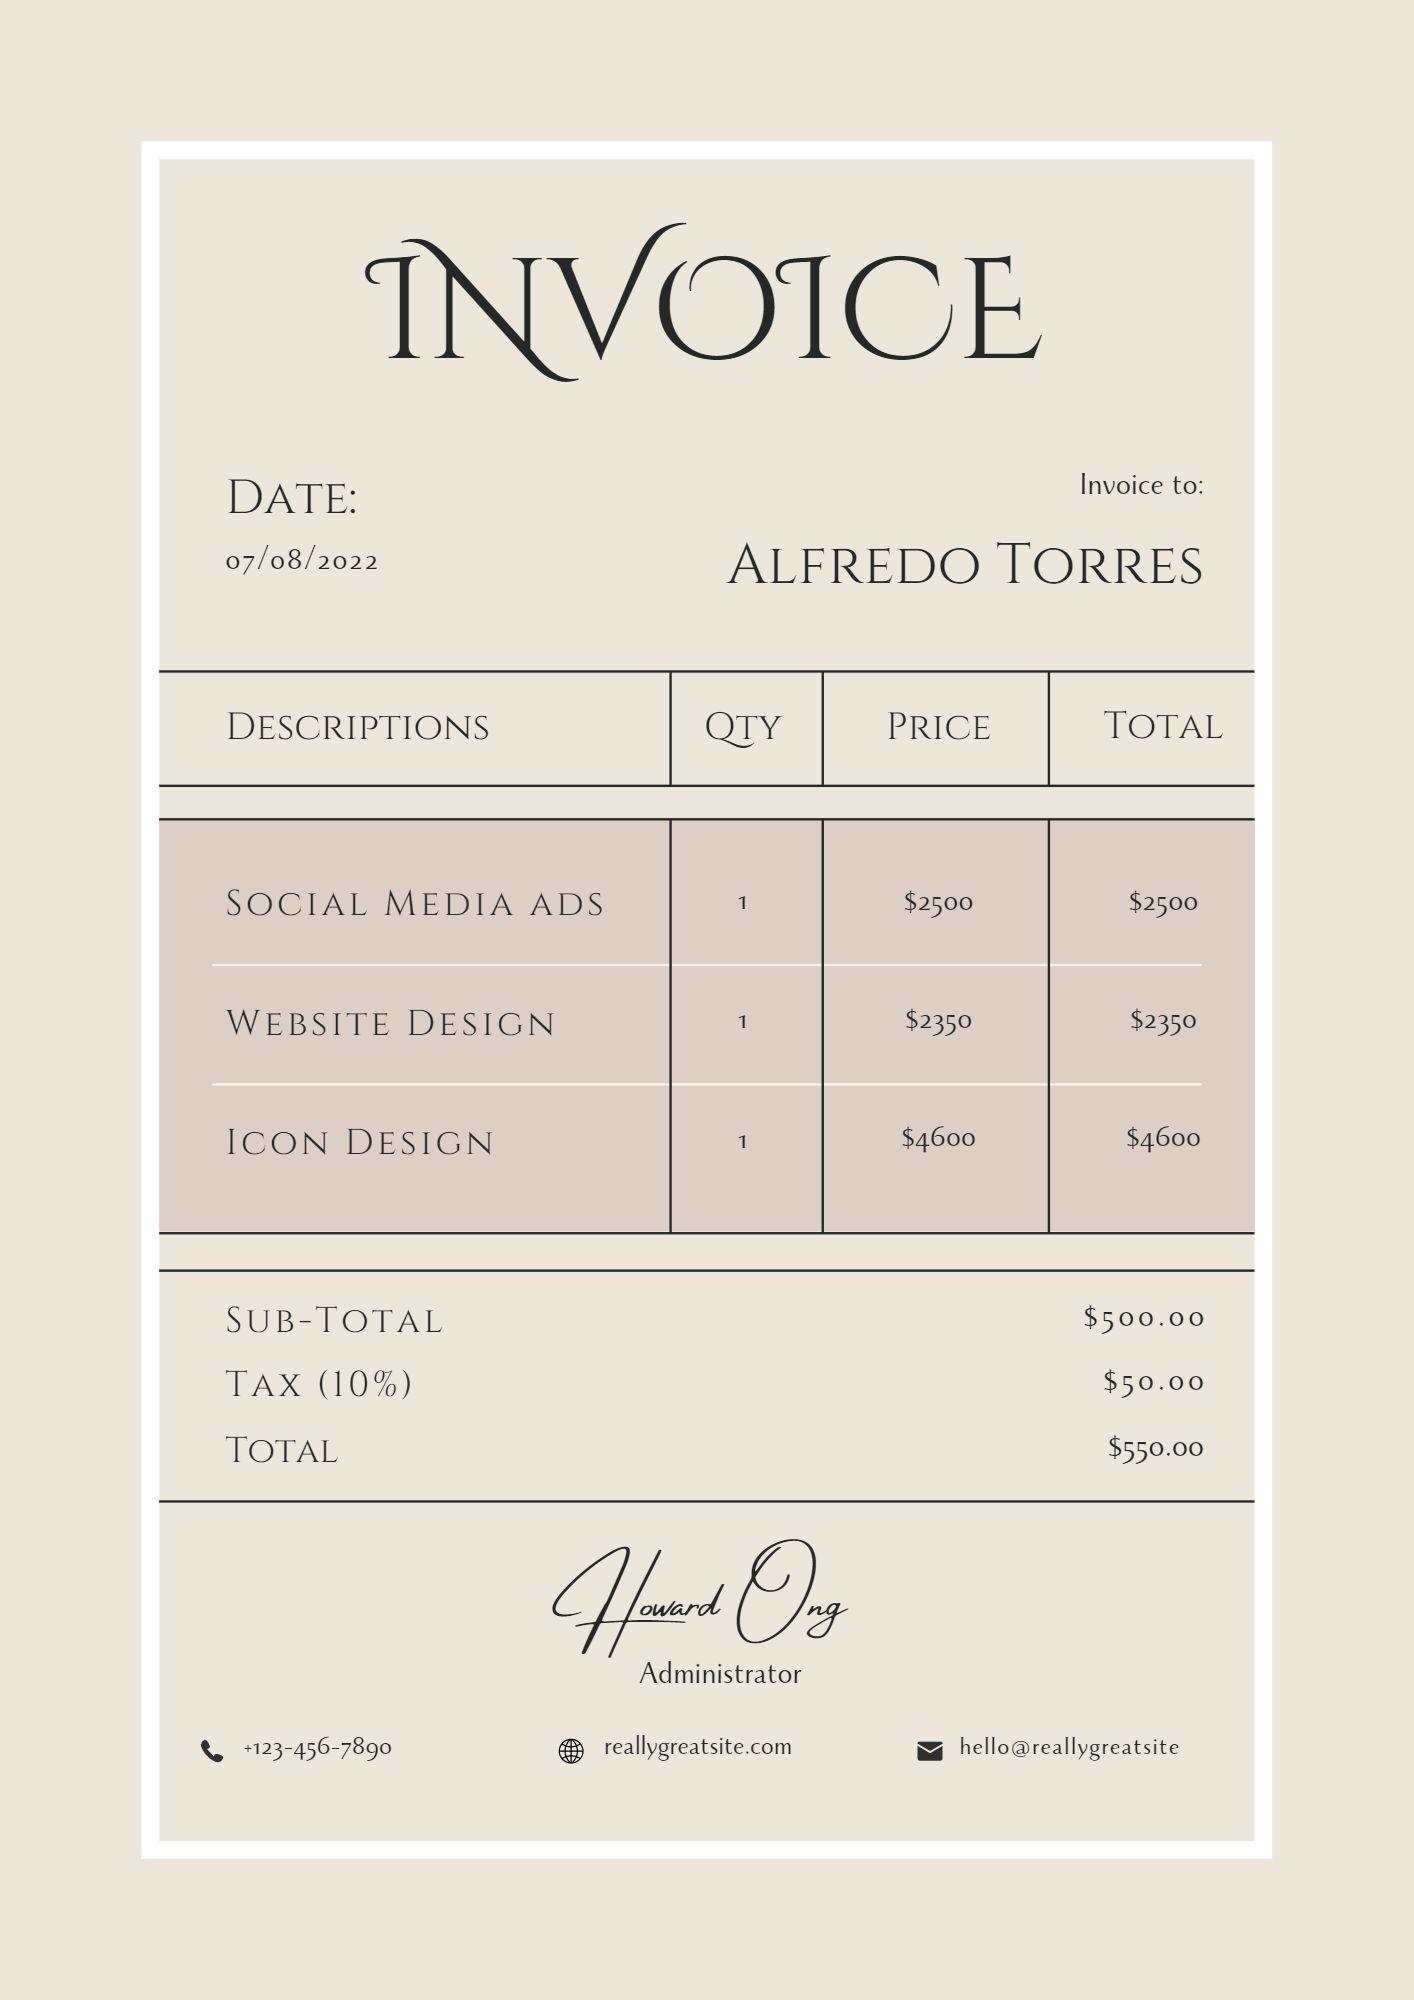ROI: (158, 653, 1243, 1243)
